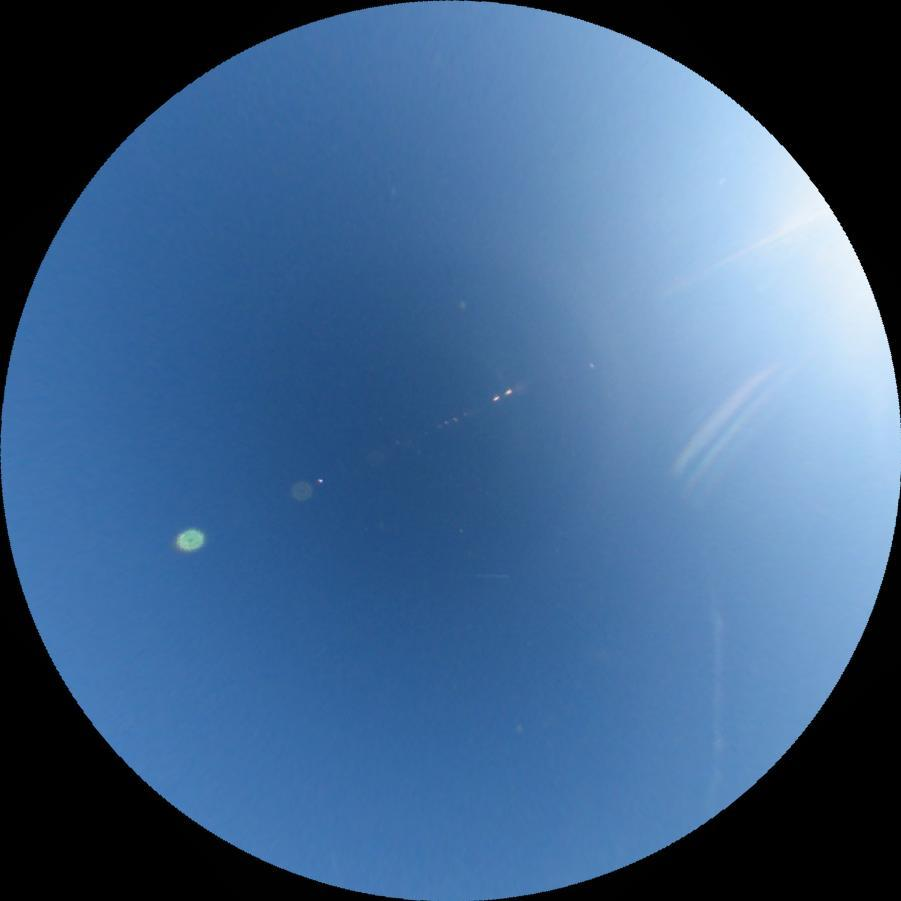contrail veryold: (704, 587, 734, 818)
contrail young: (466, 572, 508, 578)
parasite: (660, 352, 782, 482), (662, 213, 809, 296)
